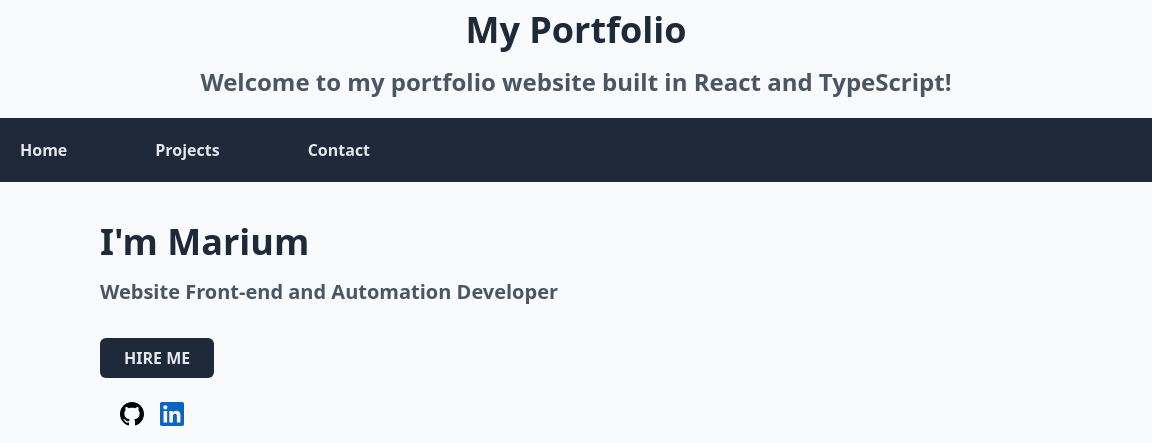
Scenario: App Component › navigates to the Contact component when clicking the Contact link
Step 1. Click the link "Contact" → point(339, 150), box [308,139,370,161]
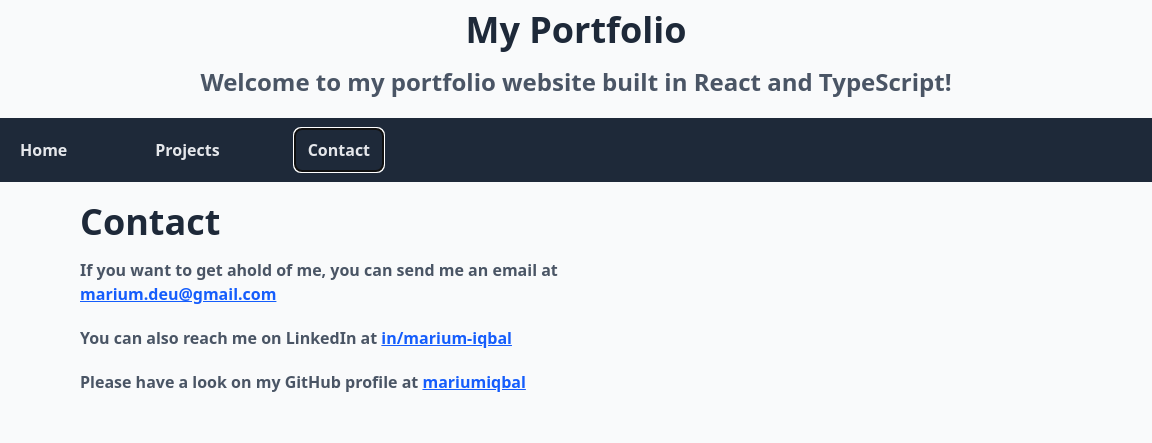
Result: the text "If you want to get ahold of m" is shown at [80,259,558,281]
